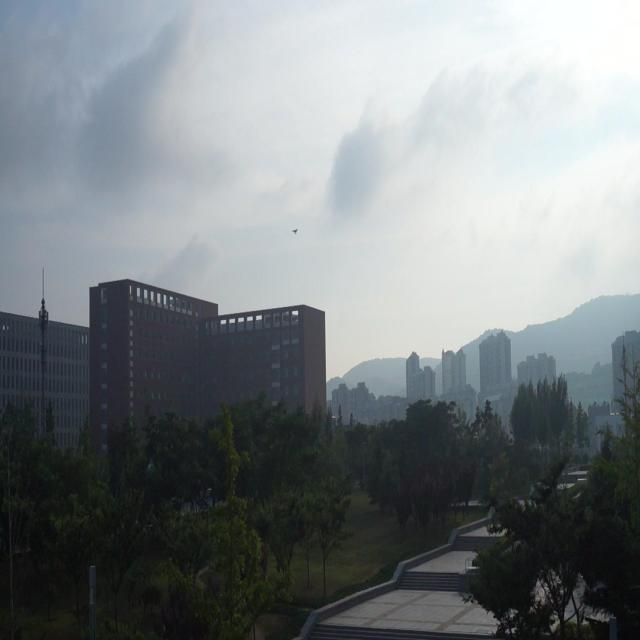drone: (290, 224, 300, 238)
